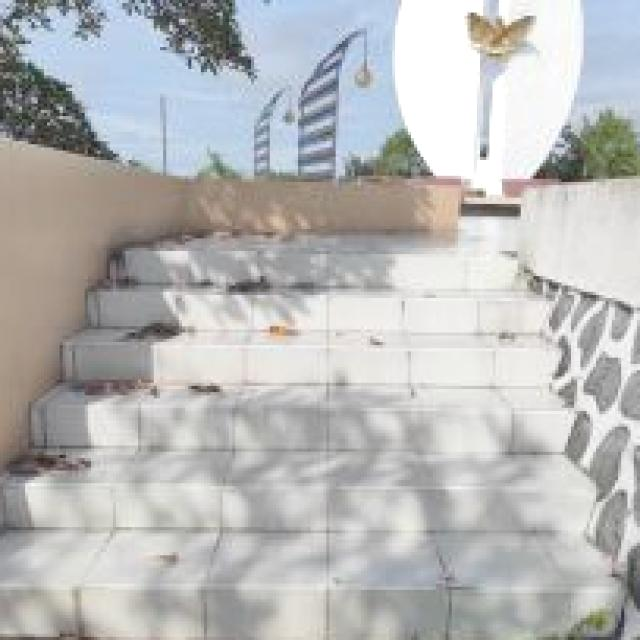upstair: (4, 220, 594, 640)
